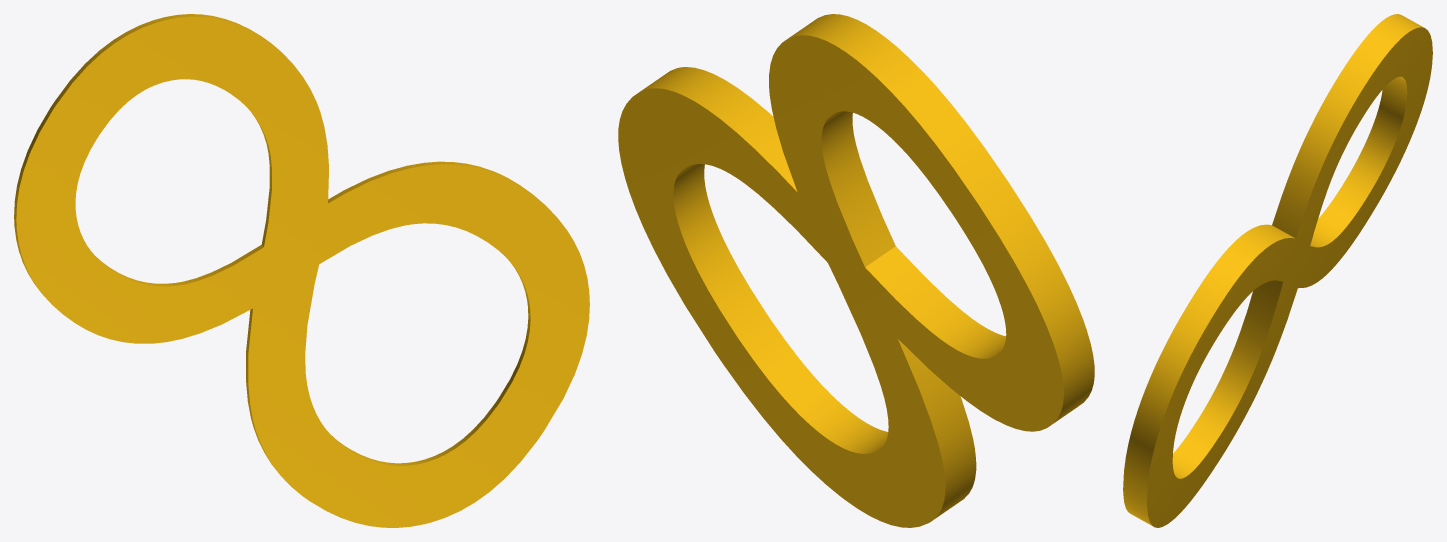
Rendered from Number_8.gltf.
3 views of the same model, side by side, from view 1: azimuth 30°, elevation 25°; view 2: azimuth 150°, elevation 25°; view 3: azimuth 270°, elevation 25° (orthographic). The views are drawn at different scales.
Parts seen in each view (by area): view 1: Sub_7_Cell_1_3_Number_8; view 2: Sub_7_Cell_1_3_Number_8; view 3: Sub_7_Cell_1_3_Number_8.
Part boxes in pixels (box(x1,y1,x2,y2)): Sub_7_Cell_1_3_Number_8: box(14, 14, 589, 527); Sub_7_Cell_1_3_Number_8: box(618, 14, 1094, 527); Sub_7_Cell_1_3_Number_8: box(1123, 14, 1432, 527).
Bounding box in the file's own units: 0.0229 × 0.0221 × 0.014.
